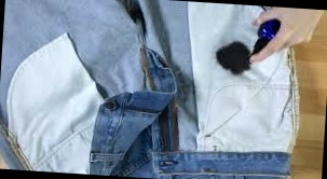ink: (214, 39, 250, 73)
